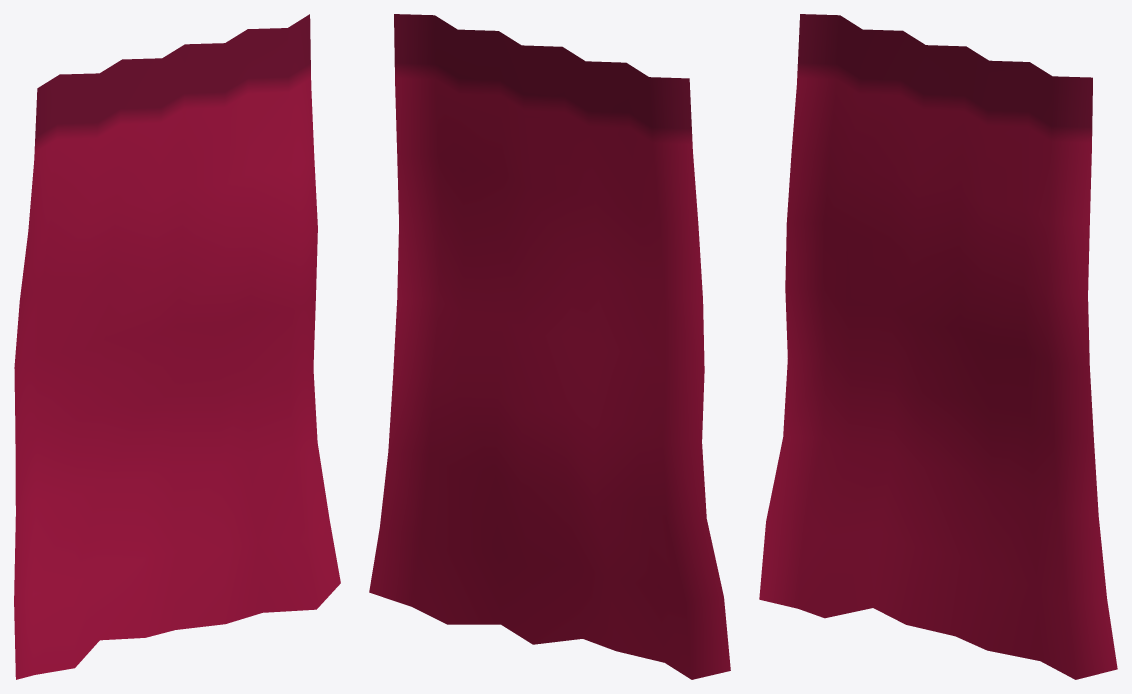
File: CortinaReta.fbx
The picture shows the model from 3 angles, left to right: view 1: azimuth 30°, elevation 25°; view 2: azimuth 150°, elevation 25°; view 3: azimuth 330°, elevation 25°; orthographic projection. The views are drawn at different scales.
Visible parts, largest first — view 1: CortinaReta; view 2: CortinaReta; view 3: CortinaReta.
Part boxes in pixels (<box>): CortinaReta: <box>14,14,340,679</box>; CortinaReta: <box>369,14,730,679</box>; CortinaReta: <box>759,14,1117,679</box>.
Size of the model in its own units: 317 by 523 by 38.24.
Materials: 1 (1 with a texture image).
